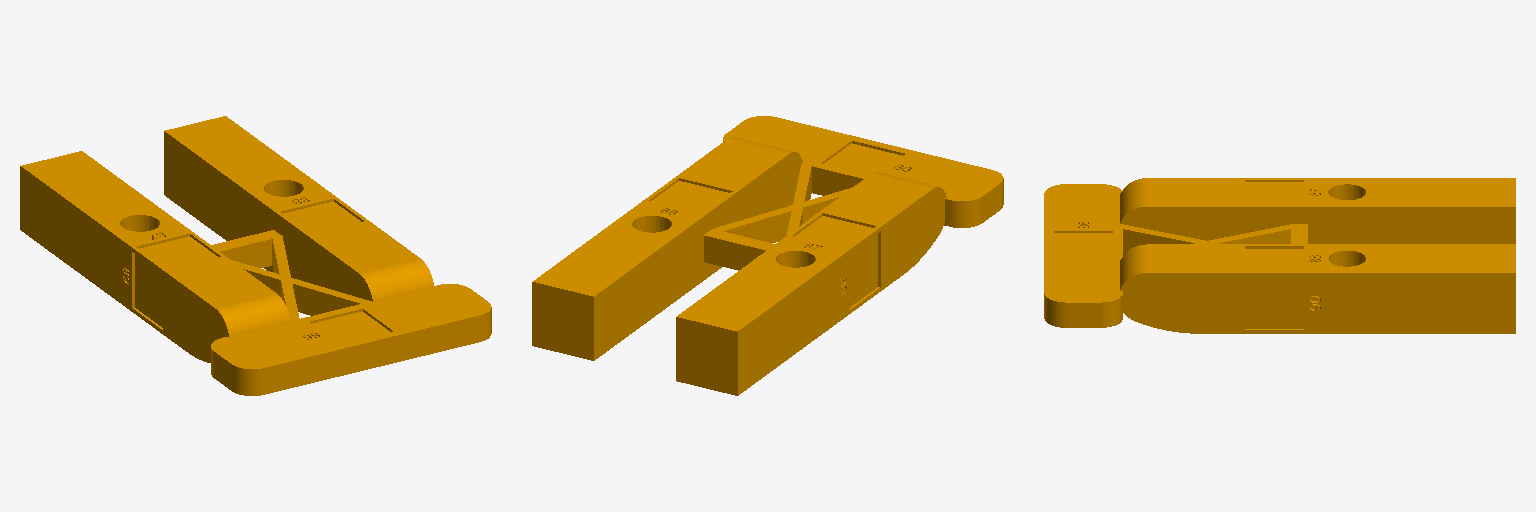
URDF robot description (chair_back):
<?xml version="1.0"?>
<robot name="chair_back">
    <link name="chair_back">
        <visual>
            <geometry>
                <mesh filename="../../mesh/chair/chair_back.obj" scale="1 1 1"/>
            </geometry>
        </visual>
        <collision>
            <geometry>
                <mesh filename="../../mesh/chair/chair_back.obj" scale="1 1 1"/>
            </geometry>
            <sdf resolution="512"/>
        </collision>
        <!-- <inertial>
            <mass value="1."/>
            <inertia ixx="0.0001" ixy="0.0" ixz="0.0" iyy="0.0001" iyz="0.0" izz="0.0001"/>
        </inertial> -->
    </link>
</robot>

--- What the picture shows (computed from the rendered views, not written in the file) ---
3 views of the same robot in one strip: view 1: azimuth 30°, elevation 25°; view 2: azimuth 150°, elevation 25°; view 3: azimuth 270°, elevation 25° (orthographic).
Model chair_back with 1 links and 0 joints (none), rooted at chair_back, posed all joints at 0.
Links seen in each view (by area): view 1: chair_back; view 2: chair_back; view 3: chair_back.
Boxes of the visible links, x1,y1,x2,y2 form: chair_back: [20, 116, 491, 395]; chair_back: [532, 116, 1003, 395]; chair_back: [1044, 178, 1515, 333].
Bounding box of the posed robot: 0.125 × 0.21 × 0.03 m (x, y, z).
1 mesh visuals loaded from 1 distinct referenced files (1 OBJ).